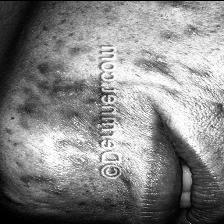Non-Cancerous Skin Condition: (1, 35, 102, 209), (129, 0, 224, 105)
